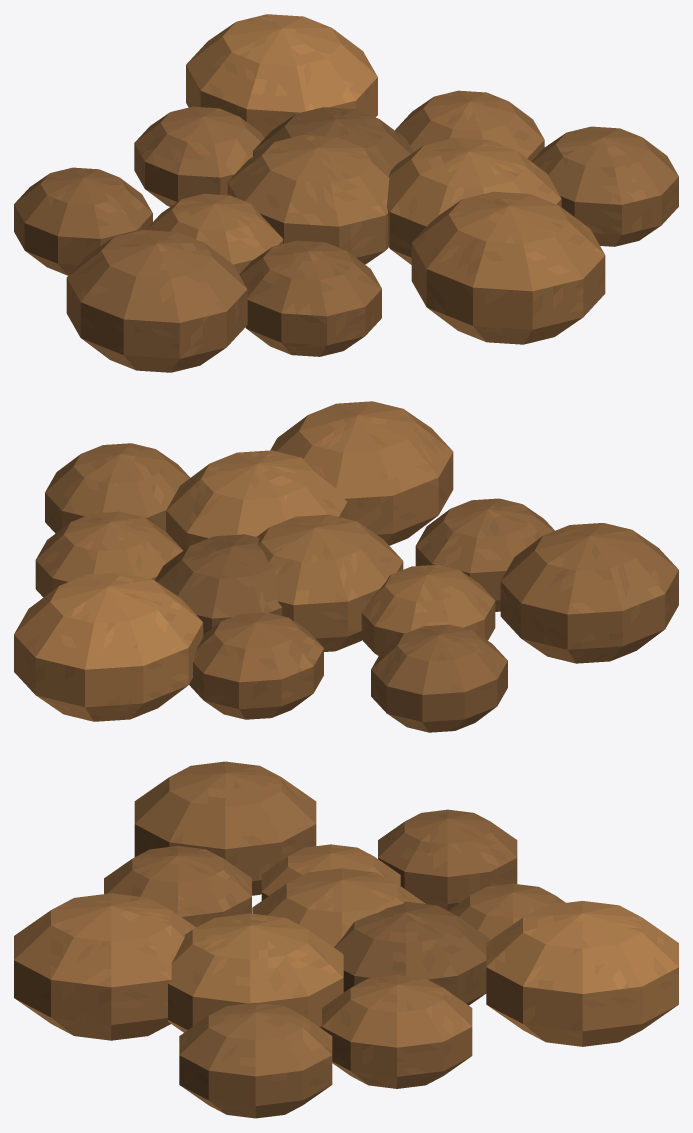
File: beech_nuts.glb
3 renders of one model, top to bottom at view 1: azimuth 30°, elevation 25°; view 2: azimuth 150°, elevation 25°; view 3: azimuth 270°, elevation 25°, orthographic.
Parts seen in each view (by area): view 1: block_grain 8, block_grain 10, block_grain 9, block_grain 0, block_grain 5, block_grain 11, block_grain 3, block_grain 7, block_grain 4, block_grain 6, block_grain 2, block_grain 1; view 2: block_grain 9, block_grain 10, block_grain 8, block_grain 0, block_grain 7, block_grain 3, block_grain 4, block_grain 11, block_grain 1, block_grain 5, block_grain 6, block_grain 2; view 3: block_grain 9, block_grain 8, block_grain 10, block_grain 3, block_grain 11, block_grain 6, block_grain 1, block_grain 7, block_grain 5, block_grain 0, block_grain 4, block_grain 2.
Boxes of the visible parts, <box> form: block_grain 8: <box>411,191,605,344</box>; block_grain 10: <box>66,230,247,372</box>; block_grain 9: <box>186,14,377,138</box>; block_grain 0: <box>227,135,390,264</box>; block_grain 5: <box>239,240,381,356</box>; block_grain 11: <box>531,126,678,246</box>; block_grain 3: <box>387,138,561,264</box>; block_grain 7: <box>14,167,152,275</box>; block_grain 4: <box>134,106,264,206</box>; block_grain 6: <box>395,90,544,161</box>; block_grain 2: <box>146,193,283,274</box>; block_grain 1: <box>253,107,413,169</box>; block_grain 9: <box>14,572,203,721</box>; block_grain 10: <box>500,523,678,663</box>; block_grain 8: <box>270,401,453,545</box>; block_grain 0: <box>257,514,403,651</box>; block_grain 7: <box>371,624,507,732</box>; block_grain 3: <box>166,450,347,550</box>; block_grain 4: <box>189,612,323,719</box>; block_grain 11: <box>45,443,190,533</box>; block_grain 1: <box>155,534,282,634</box>; block_grain 5: <box>415,498,554,611</box>; block_grain 6: <box>35,511,183,597</box>; block_grain 2: <box>359,564,495,655</box>; block_grain 9: <box>486,901,678,1046</box>; block_grain 8: <box>14,893,195,1040</box>; block_grain 10: <box>134,761,316,895</box>; block_grain 3: <box>167,913,343,1032</box>; block_grain 11: <box>179,1002,332,1118</box>; block_grain 6: <box>322,975,472,1088</box>; block_grain 1: <box>334,901,489,1005</box>; block_grain 7: <box>378,809,517,910</box>; block_grain 5: <box>104,846,251,927</box>; block_grain 0: <box>252,868,425,947</box>; block_grain 4: <box>448,883,565,940</box>; block_grain 2: <box>261,844,400,900</box>.
Size of the model in its own units: 0.0716 by 0.0141 by 0.0697.
Materials: 1 (1 with a texture image).
